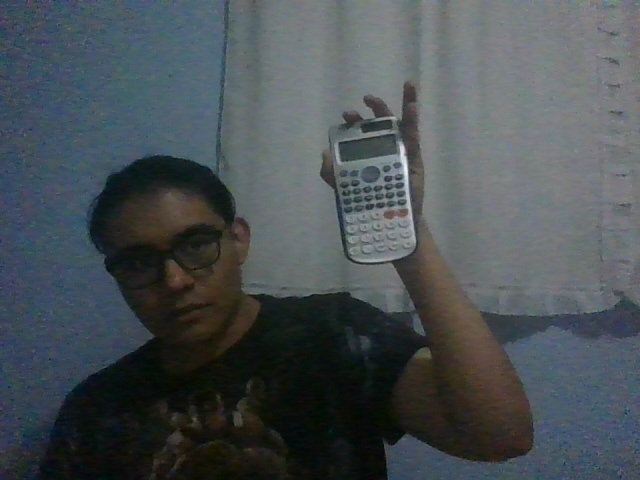calculadora: (327, 116, 419, 265)
